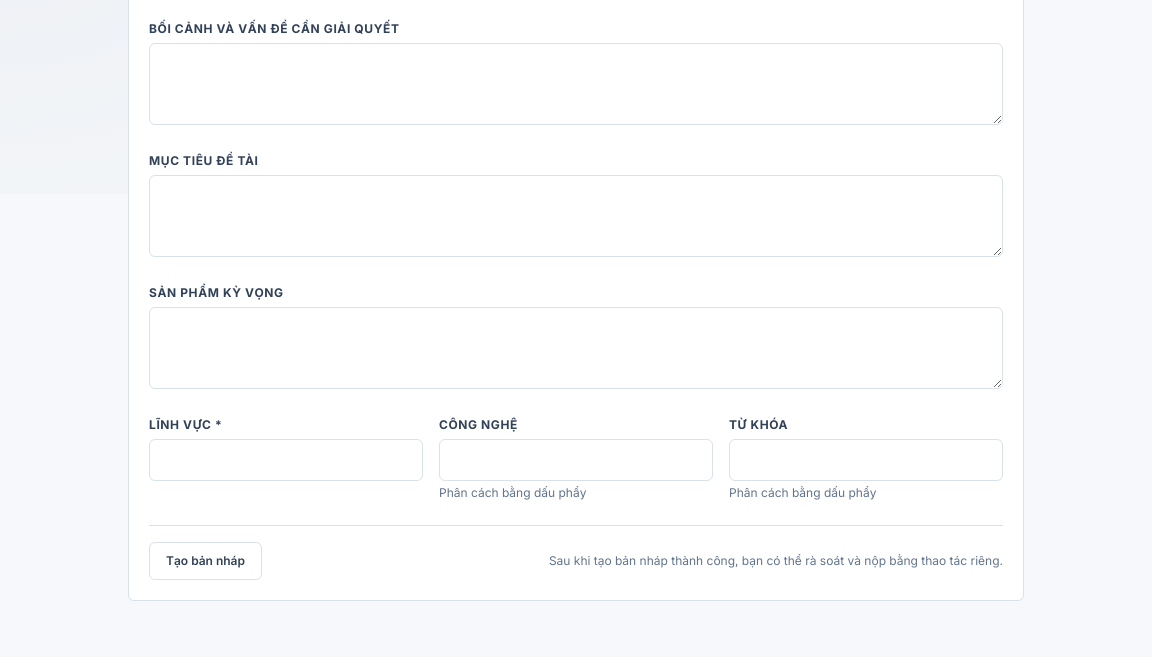
Test: ProjectRegistrationFormPage › new draft validation › focuses a field-linked summary and preserves the empty form when required data is missing
This screenshot has width=1152, height=657.
(page scrolled)
Click the button "Tạo bản nháp" at (206, 561), box x1=149 y1=542 x2=262 y2=580
(page scrolled)
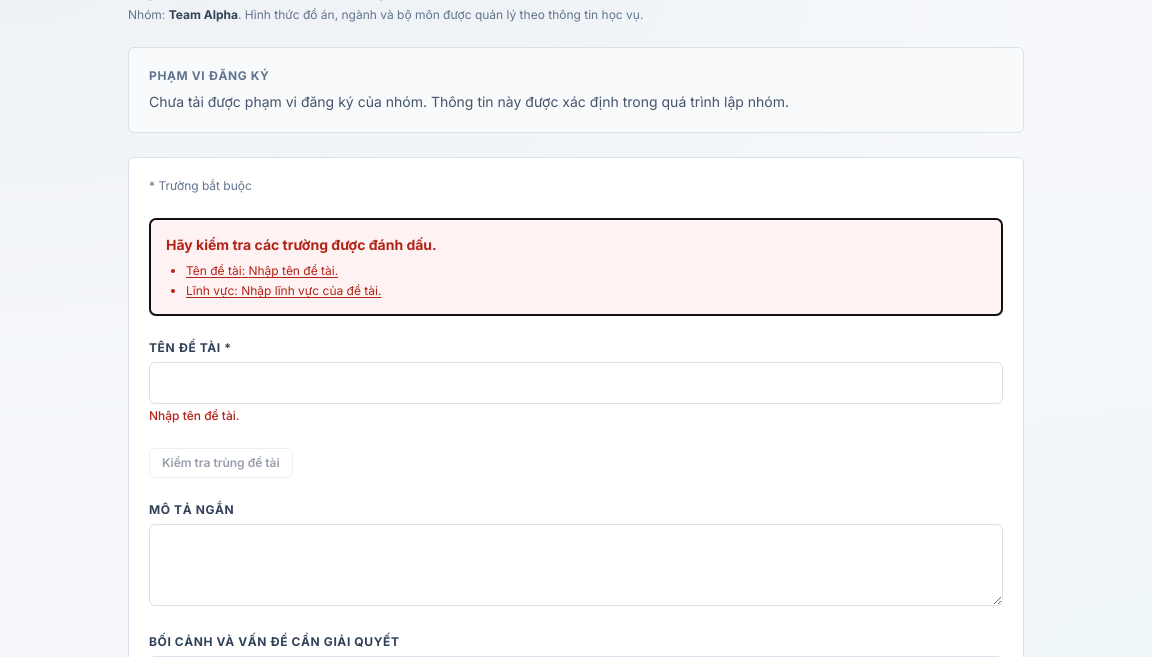
Now the message shows "Tên đề tài: Nhập tên đề tài.", box x1=149 y1=218 x2=1003 y2=316
Now the message shows "Lĩnh vực: Nhập lĩnh vực của đề tài.", box x1=149 y1=218 x2=1003 y2=316
